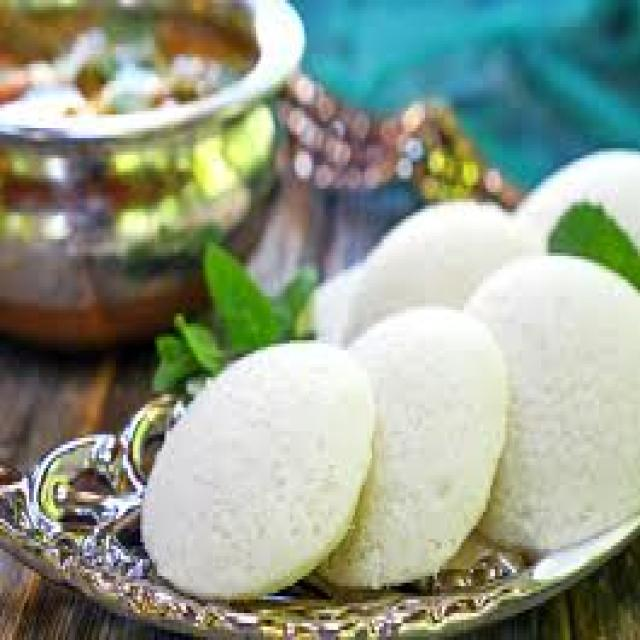IDLI: (142, 342, 381, 604), (320, 309, 510, 591), (472, 259, 637, 557), (338, 215, 519, 356)
